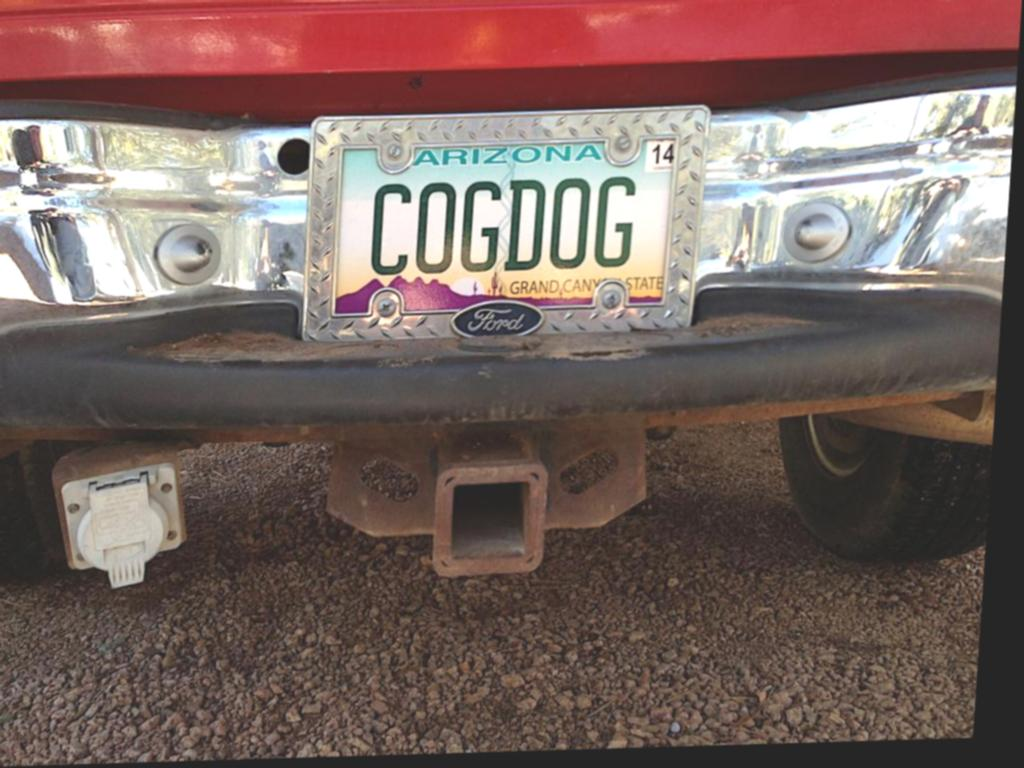License_Plate: (299, 97, 705, 348)
